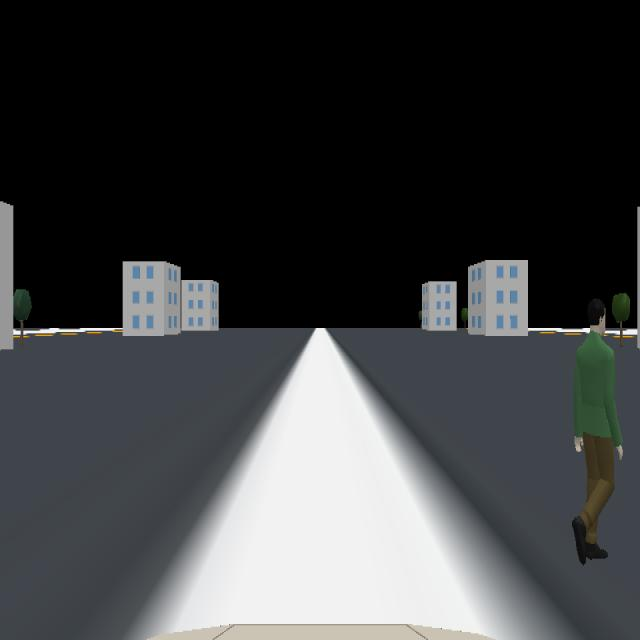human: (572, 298, 624, 566)
